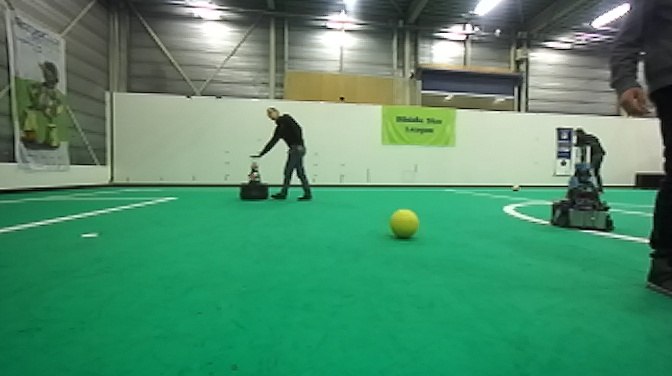ball: (386, 206, 421, 243), (510, 182, 522, 194)
human: (606, 1, 672, 303), (247, 105, 314, 202), (572, 126, 607, 194)
robot: (549, 139, 616, 232), (238, 153, 271, 204)
